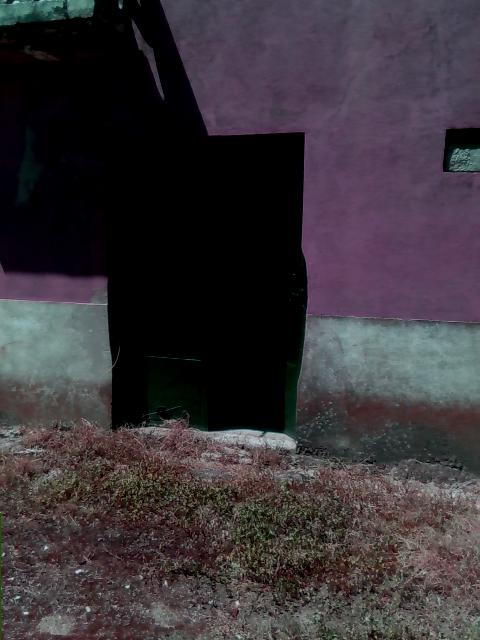closed_door: (98, 131, 309, 447)
